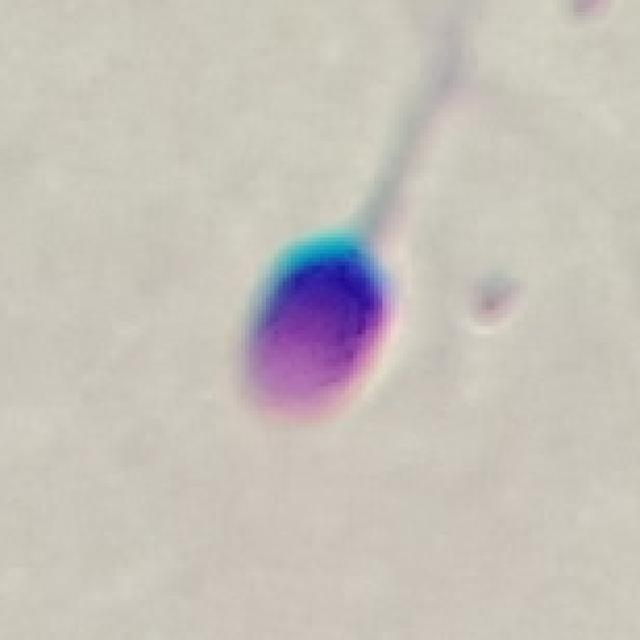normal sperm: (238, 142, 418, 421)
